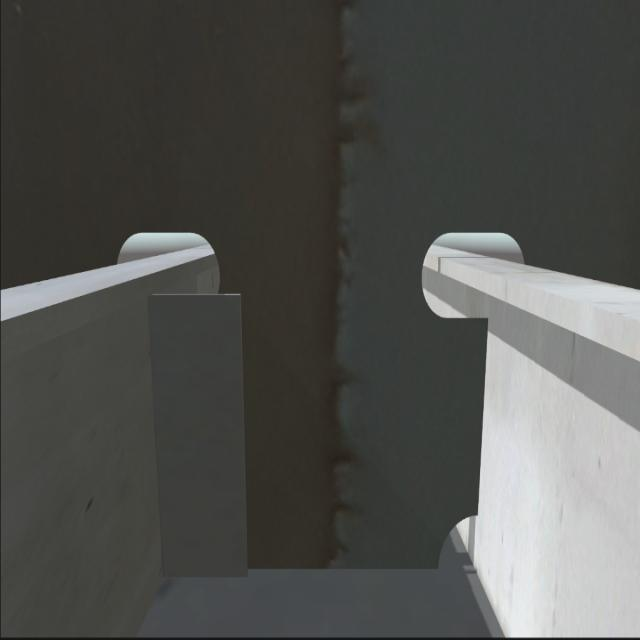fillet_hole: (434, 513, 479, 571)
fillet_yong_jeop_jang: (162, 553, 447, 580)
longi_yong_jeop_jang: (144, 285, 172, 579), (470, 312, 496, 508)
plate_CP01: (147, 292, 247, 576)
